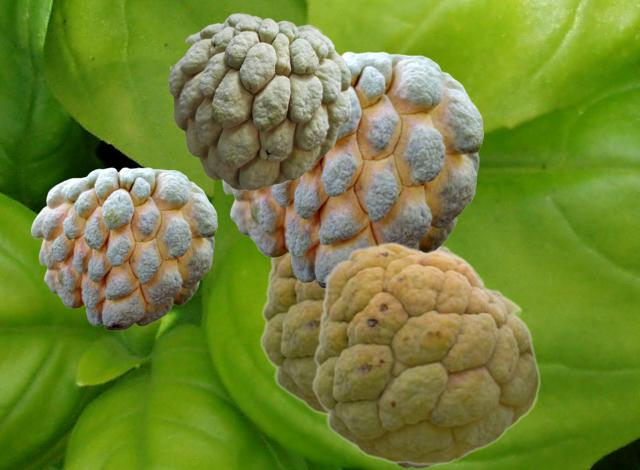atis: (220, 51, 482, 288), (311, 241, 539, 464), (259, 245, 472, 416), (168, 13, 350, 189), (31, 167, 216, 329)
